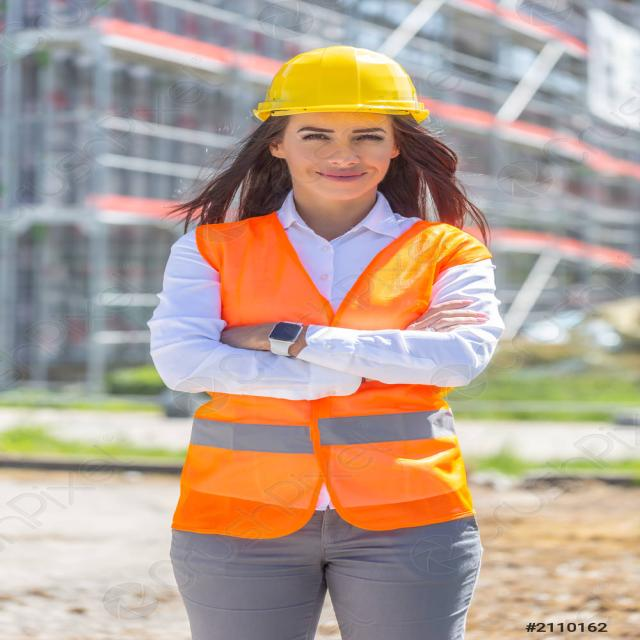helmet: (258, 35, 436, 130)
no-goggles: (275, 116, 416, 152)
vest: (186, 209, 475, 535)
